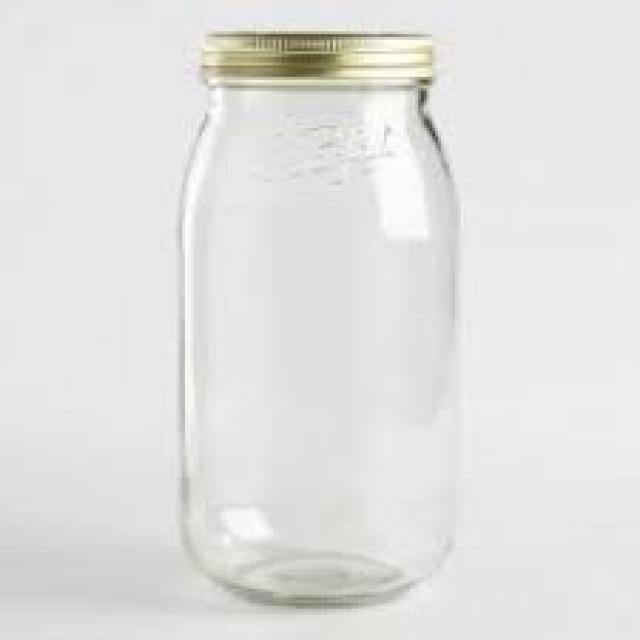glass: (176, 71, 458, 603)
metal: (199, 28, 430, 74)
